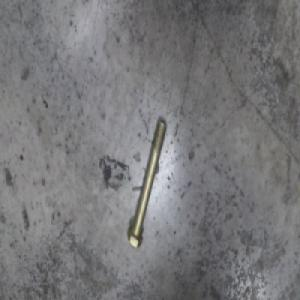Bolt: (126, 107, 166, 246)
